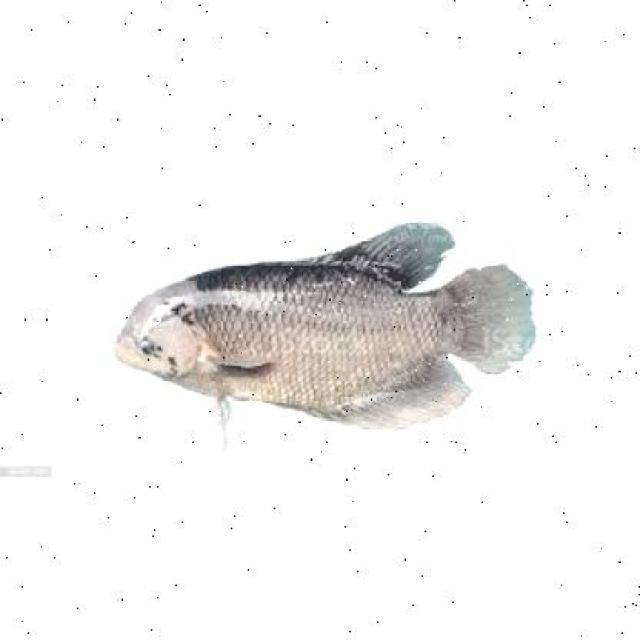gurame: (115, 219, 538, 430)
